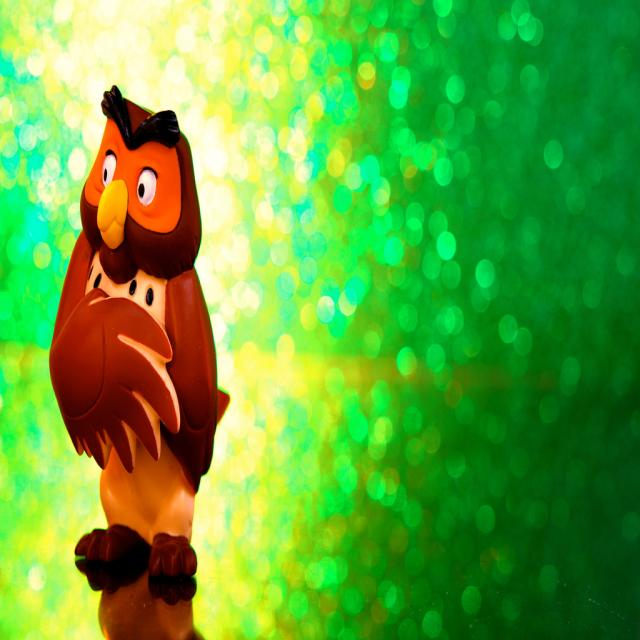Toy: (37, 104, 209, 581)
